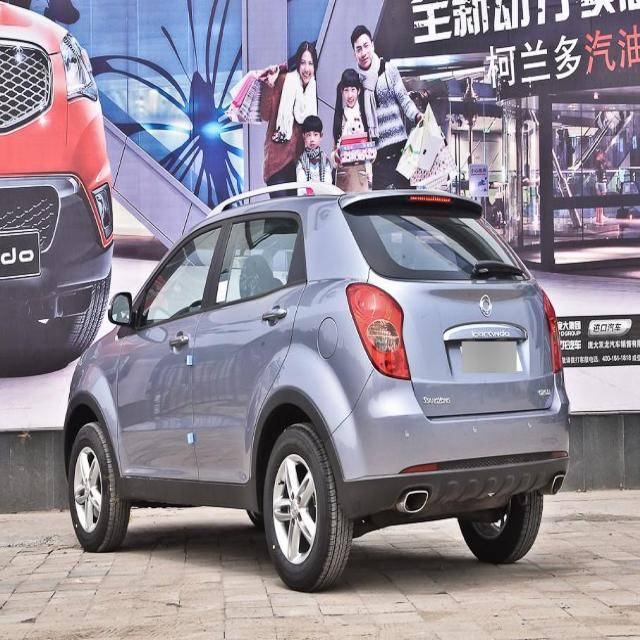back_glass: (340, 200, 531, 282)
back_left_side_light: (344, 280, 412, 384)
back_right_side_light: (540, 286, 564, 375)
door: (183, 217, 301, 485)
front_left_side_door: (114, 214, 230, 483)
front_left_side_mirror: (108, 290, 135, 330)
rear_bumper: (318, 365, 572, 521)
wheel: (262, 422, 353, 593), (68, 420, 130, 553), (456, 496, 544, 565)
